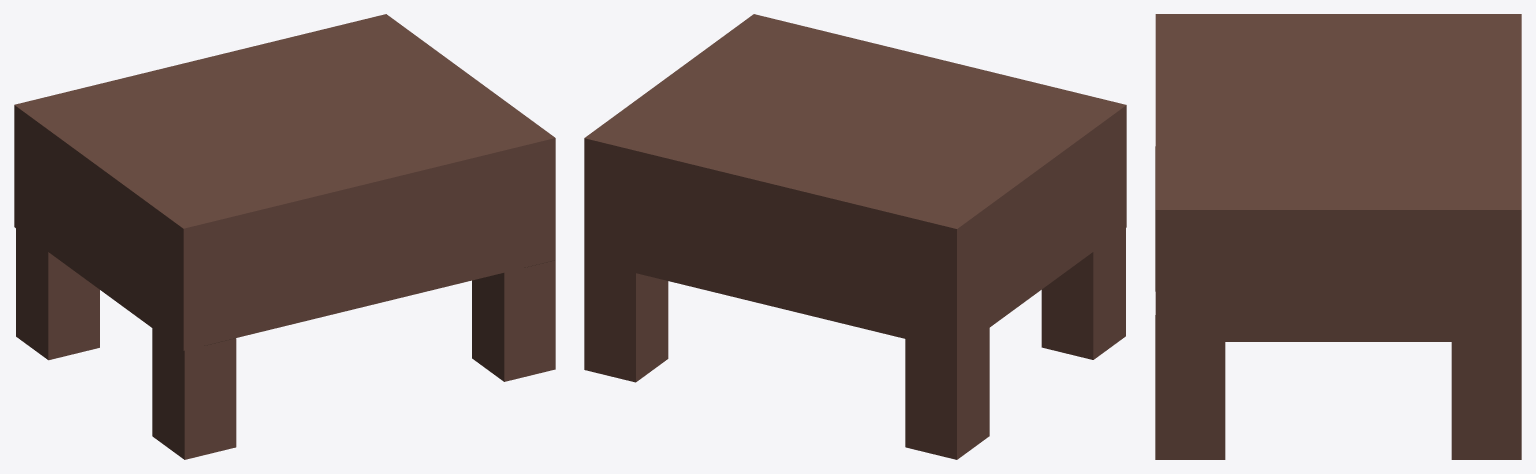
Rendered from table basseC.fbx.
3 renders of one model, left to right at view 1: azimuth 30°, elevation 25°; view 2: azimuth 150°, elevation 25°; view 3: azimuth 270°, elevation 25°, orthographic. The views are drawn at different scales.
Parts seen in each view (by area): view 1: Cube; view 2: Cube; view 3: Cube.
Boxes of the visible parts, x1=… form: Cube: x1=14, y1=14, x2=555, y2=459; Cube: x1=584, y1=14, x2=1126, y2=459; Cube: x1=1155, y1=14, x2=1521, y2=459.
Bounding box in the file's own units: 337 × 200 × 266.
